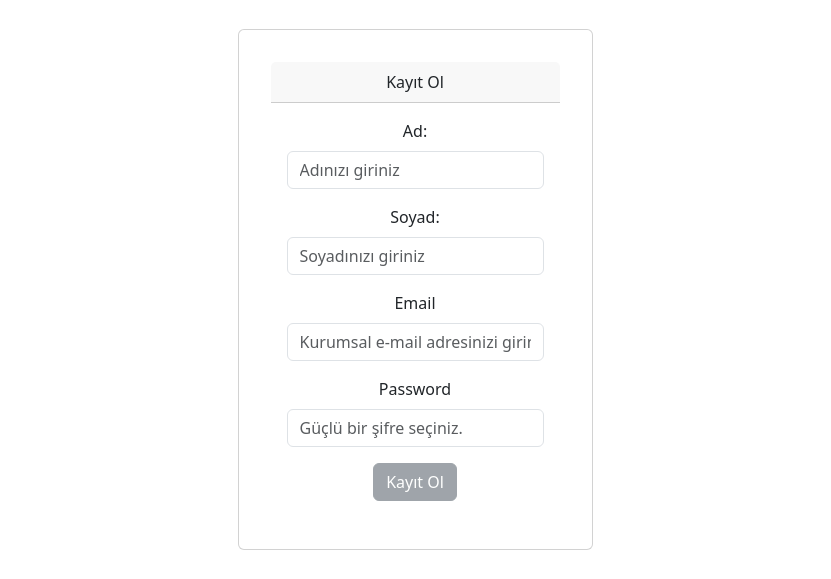
Test: Login Page › Error Messages › Password input throws for weak password
In the password field with test id "password-input": [416, 428] box [287,409,544,447], type "1234"
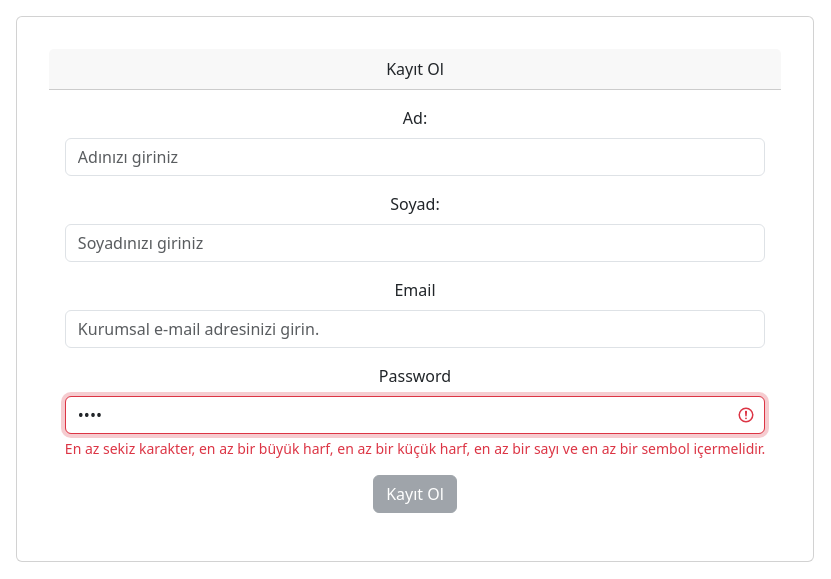
Expected: the text "En az sekiz karakter, en az bir büyük harf, en az bir küçük harf, en az bir sayı ve en az bir sembol içermelidir." is shown, [65,439,765,458]
